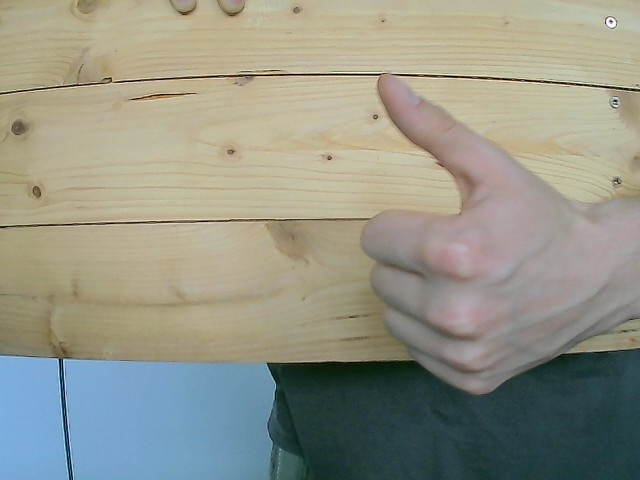up: (358, 72, 607, 397)
